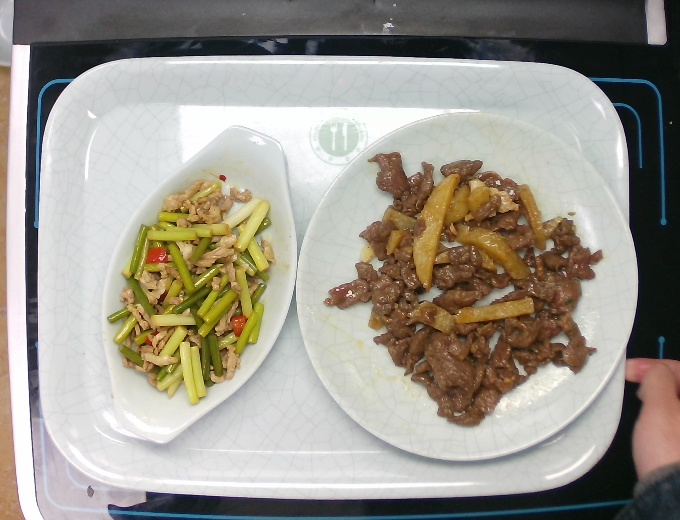JYsf-Da_Yuan_Pan: (293, 110, 650, 465)
JYsf-Yu_Pan: (95, 120, 300, 443)
